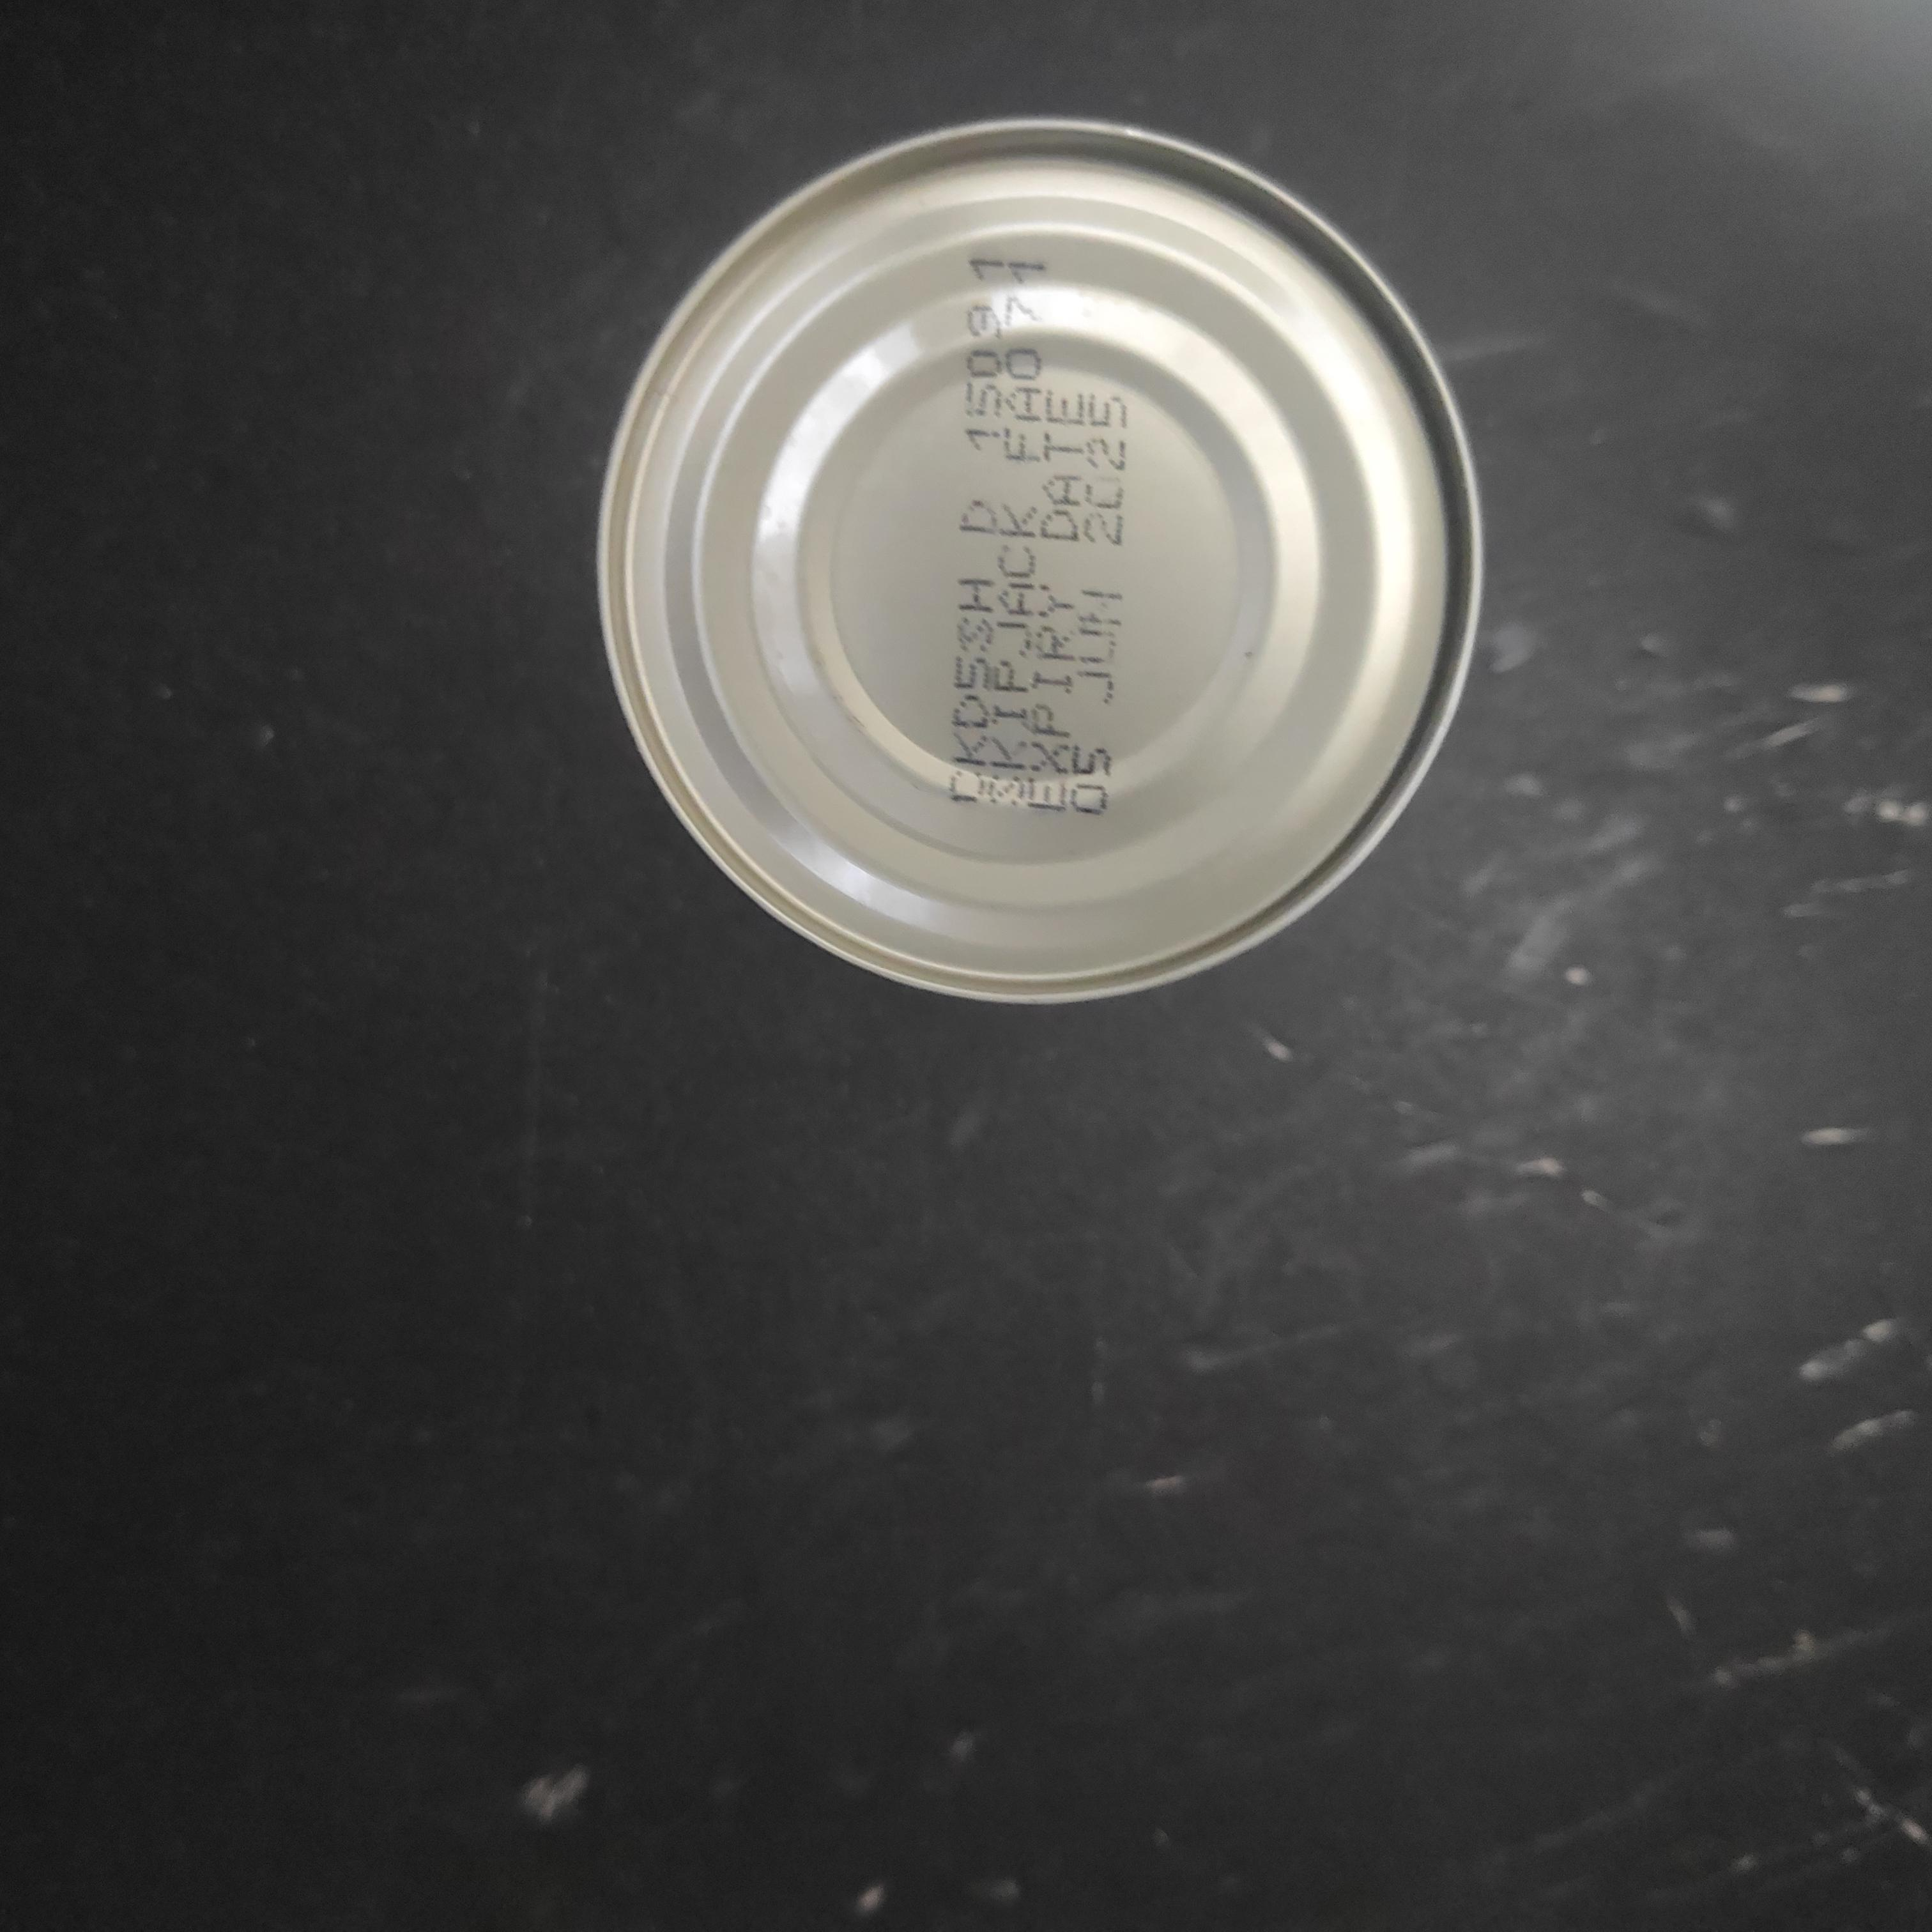No defect: (439, 915, 1355, 1831)
